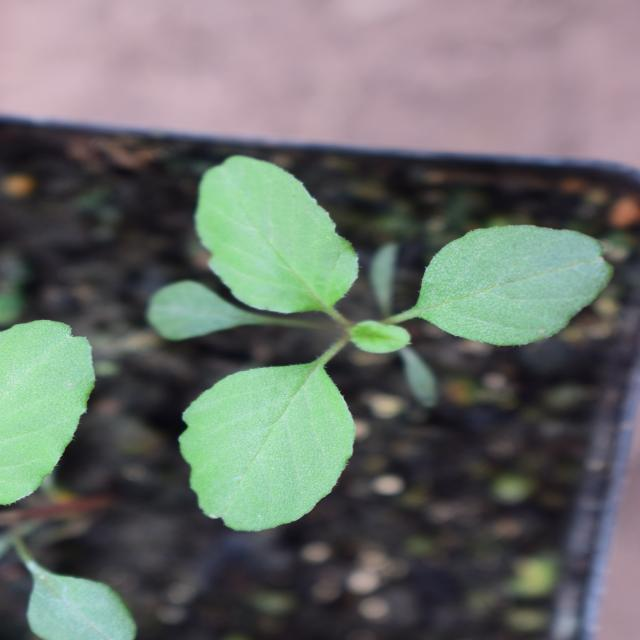pigweed: (103, 178, 487, 594)
